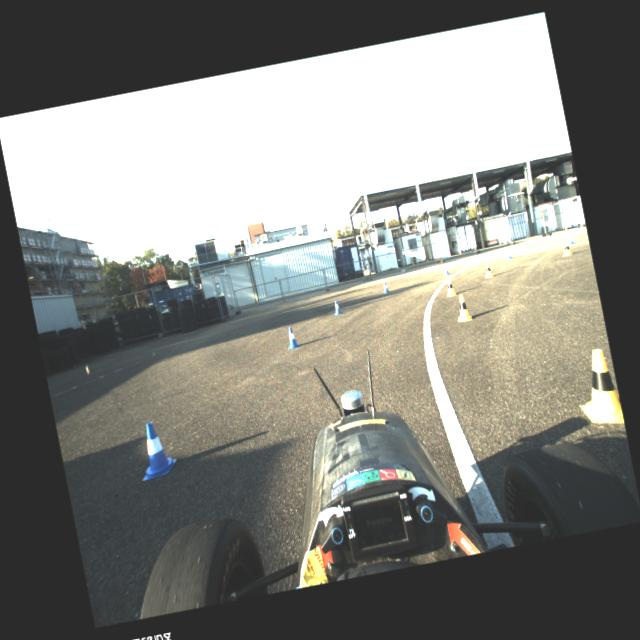blue_cone: (132, 418, 180, 481), (284, 325, 300, 349), (332, 300, 342, 316), (380, 282, 390, 294), (566, 233, 574, 246), (442, 264, 450, 276), (505, 248, 513, 260)
yellow_cone: (570, 346, 624, 431), (453, 294, 472, 322), (444, 278, 456, 296), (561, 240, 573, 256), (482, 262, 493, 278)
